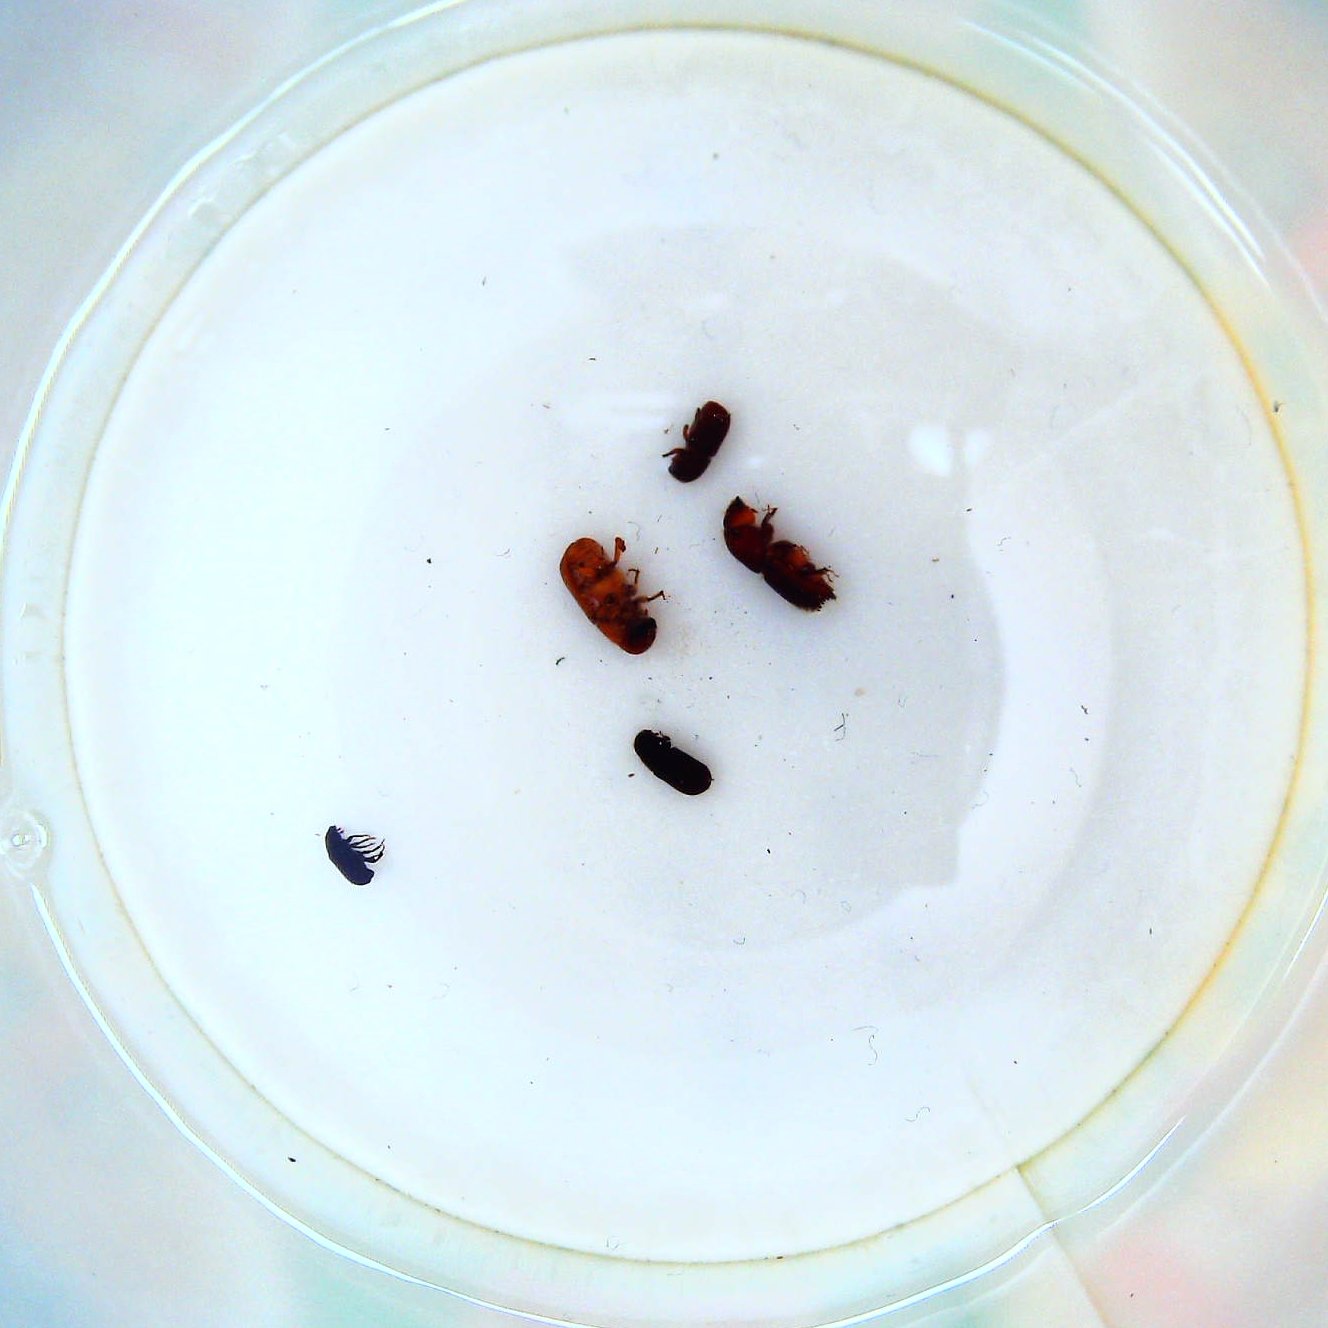Boerner: (718, 493, 842, 619)
Leconte: (559, 531, 674, 658)
armandi: (628, 724, 713, 797)
coleoptera: (315, 821, 396, 891)
linnaeus: (662, 399, 735, 494)
